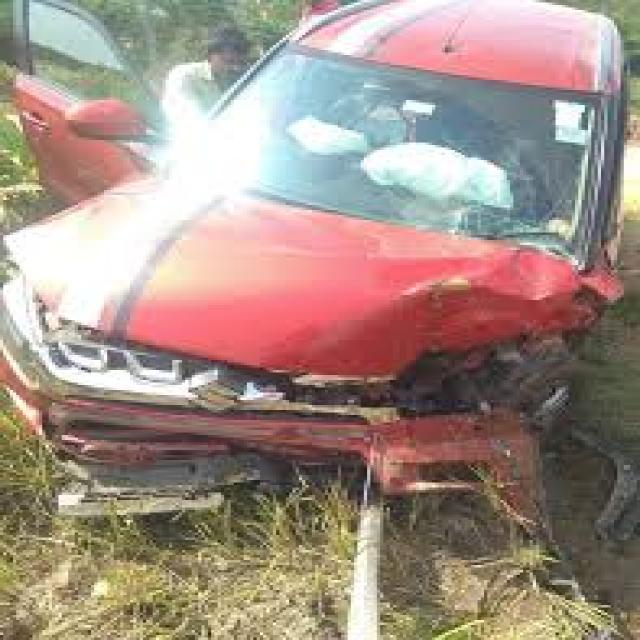severe: (6, 88, 640, 570)
